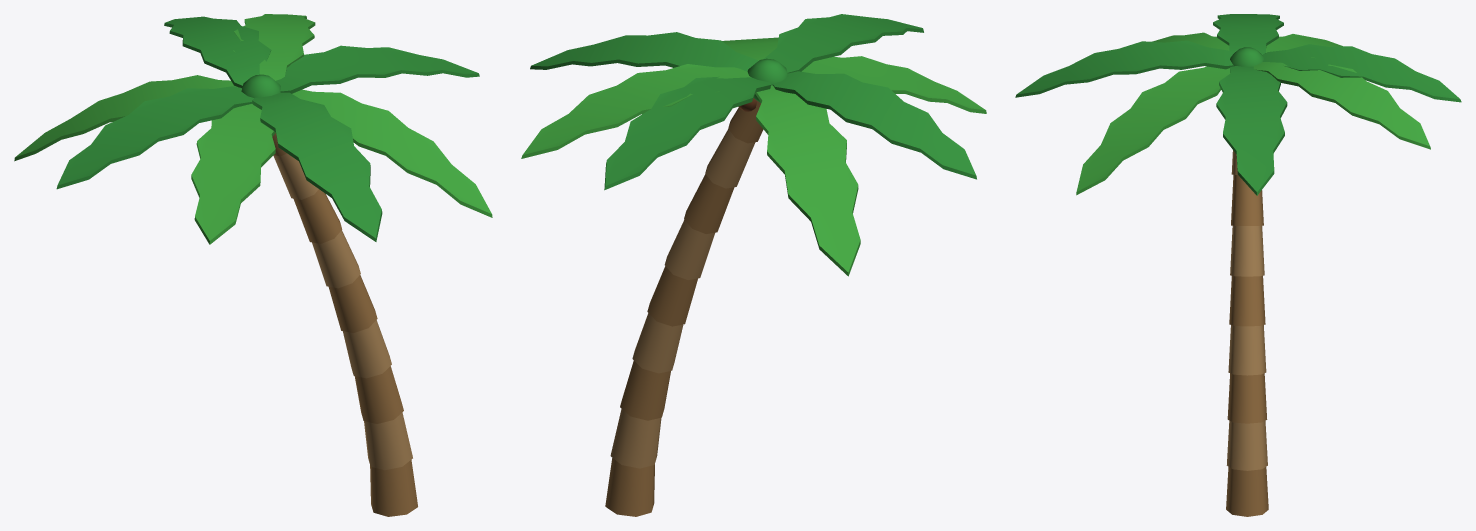
Rendered from tropic-deco2.glb.
The picture shows the model from 3 angles, left to right: view 1: azimuth 30°, elevation 25°; view 2: azimuth 150°, elevation 25°; view 3: azimuth 270°, elevation 25°; orthographic projection. The views are drawn at different scales.
Parts seen in each view (by area): view 1: tropic-deco2; view 2: tropic-deco2; view 3: tropic-deco2.
Boxes of the visible parts, x1,y1,x2,y2 form: tropic-deco2: [14, 14, 492, 516]; tropic-deco2: [521, 14, 986, 516]; tropic-deco2: [1015, 14, 1461, 516].
Bounding box in the file's own units: 3.53 × 3.65 × 3.65.
